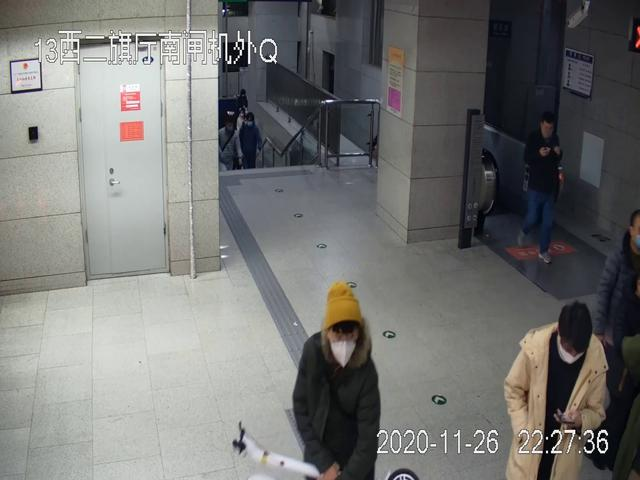person: (501, 300, 611, 480), (292, 283, 382, 480), (521, 114, 566, 264)
